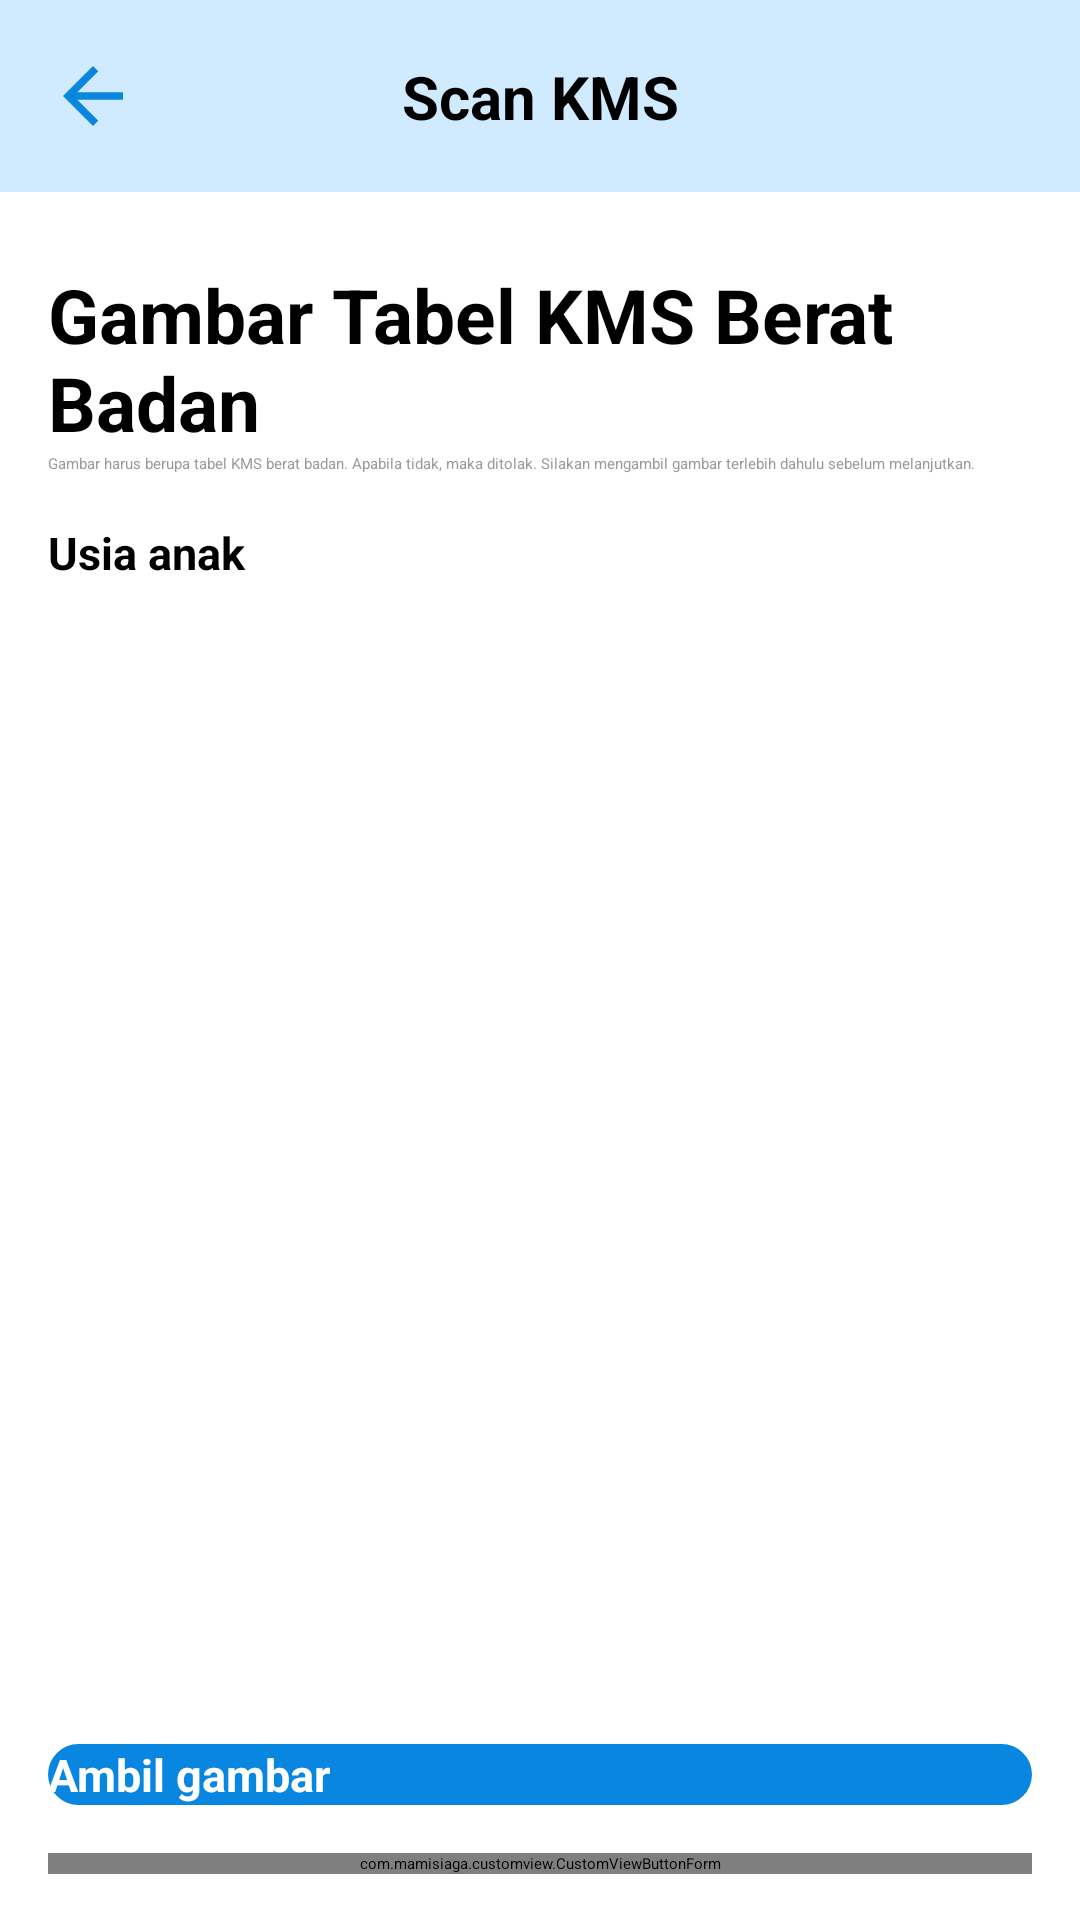

Named icons in this screenshot (1080*1920) and their centers, (x,y):
arrow back: (93,96)
